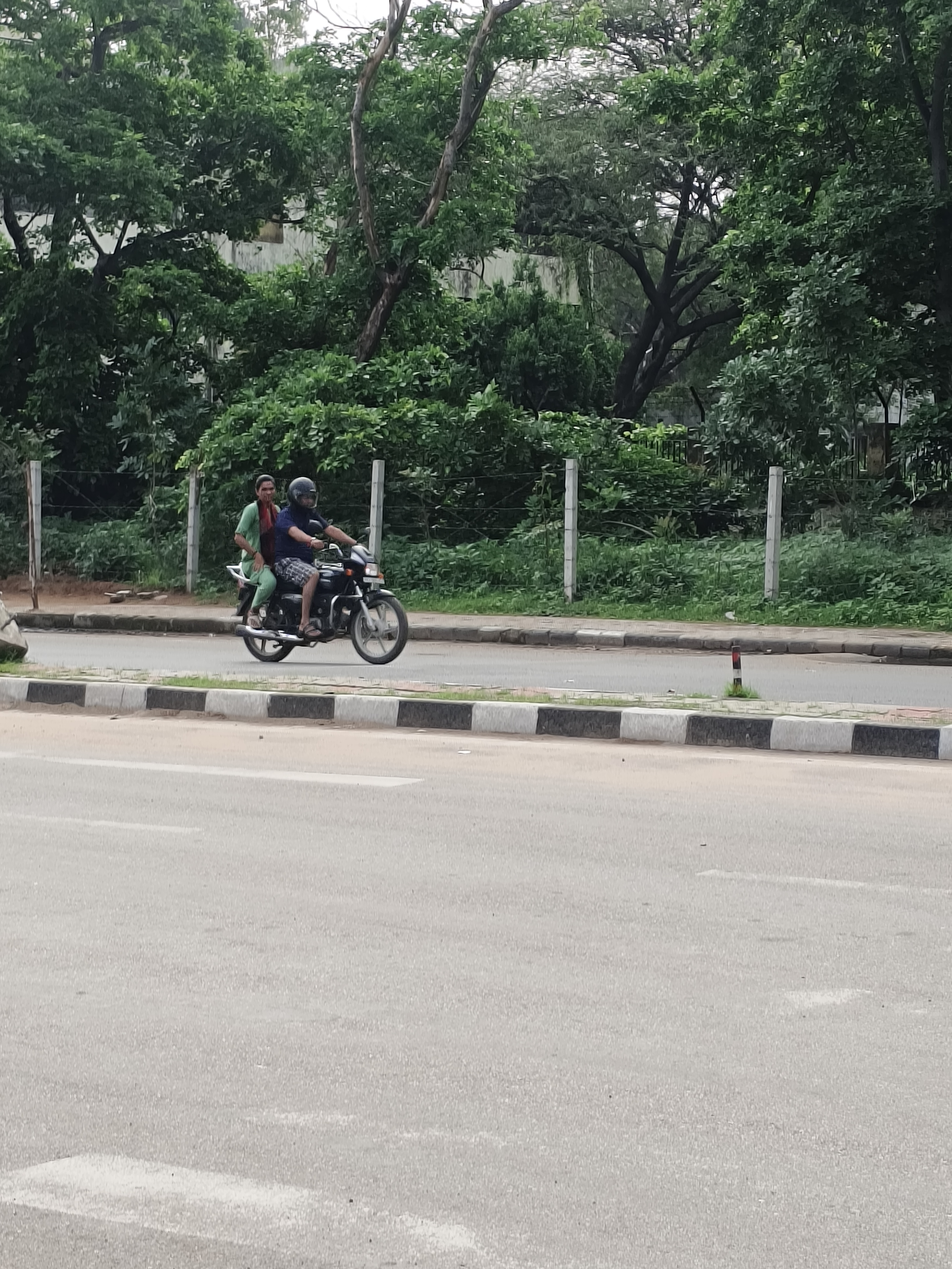BikeWithRider: (205, 443, 422, 672)
Helmet: (276, 471, 326, 517)
NoHelmet: (246, 471, 279, 509)
